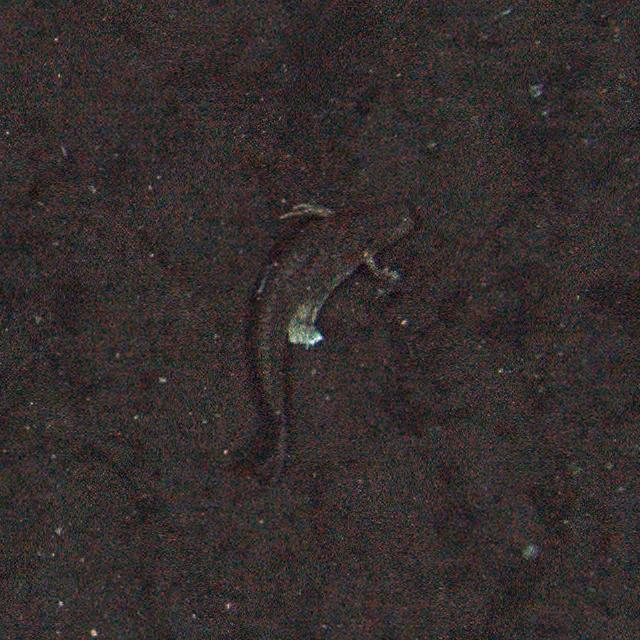roundfish: (213, 199, 435, 485)
